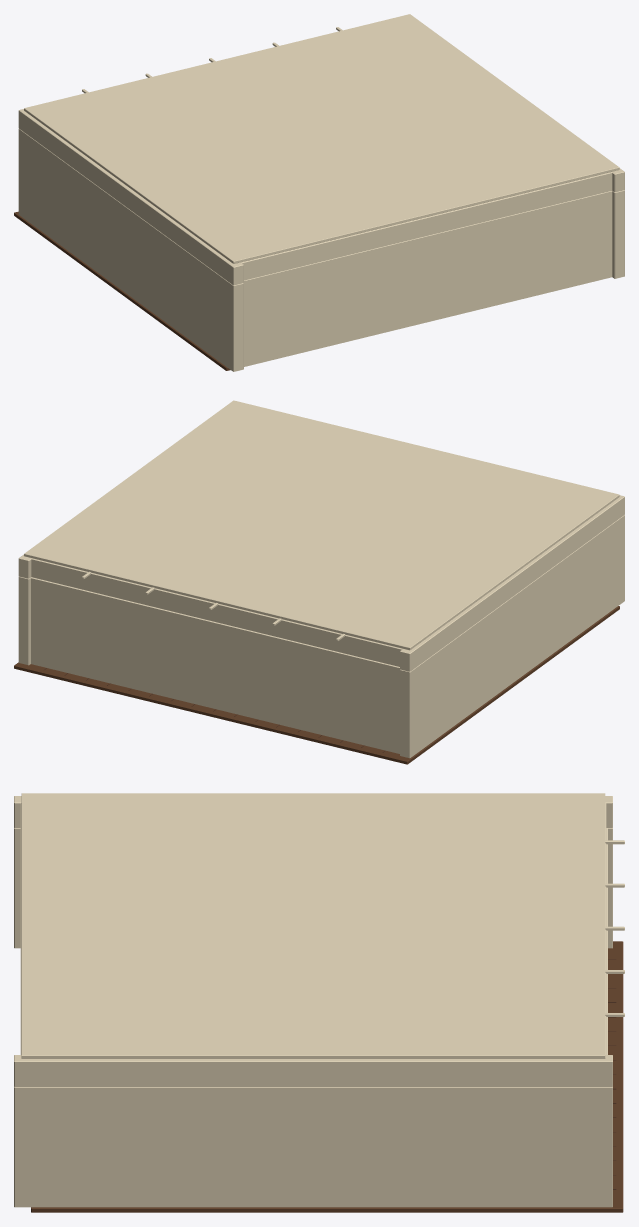
The model's file is oval-cutaway.glb.
3 renders of one model, top to bottom at view 1: azimuth 30°, elevation 25°; view 2: azimuth 150°, elevation 25°; view 3: azimuth 270°, elevation 25°, orthographic. The views are drawn at different scales.
Parts seen in each view (by area): view 1: OfficeCutaway_ceiling, OfficeCutaway_front, OfficeCutaway_west, OfficeCutaway_east, OfficeFurnishing; view 2: OfficeCutaway_ceiling, OfficeCutaway_back, OfficeCutaway_west, OfficeFurnishing, OfficeCutaway_east; view 3: OfficeCutaway_ceiling, OfficeCutaway_east, OfficeFurnishing, OfficeCutaway_west, OfficeCutaway_back.
Boxes of the visible parts, <box> form: OfficeCutaway_ceiling: <box>24,14,619,263</box>; OfficeCutaway_front: <box>236,171,616,366</box>; OfficeCutaway_west: <box>18,109,243,371</box>; OfficeCutaway_east: <box>612,168,624,278</box>; OfficeFurnishing: <box>14,211,230,370</box>; OfficeCutaway_ceiling: <box>24,400,619,650</box>; OfficeCutaway_back: <box>27,557,406,753</box>; OfficeCutaway_west: <box>400,495,624,758</box>; OfficeFurnishing: <box>14,606,619,764</box>; OfficeCutaway_east: <box>18,554,31,665</box>; OfficeCutaway_ceiling: <box>21,793,624,1058</box>; OfficeCutaway_east: <box>14,1055,612,1207</box>; OfficeFurnishing: <box>31,941,623,1212</box>; OfficeCutaway_west: <box>14,796,612,948</box>; OfficeCutaway_back: <box>605,802,607,1054</box>.
Size of the model in its own units: 38.13 by 10.31 by 36.8.
